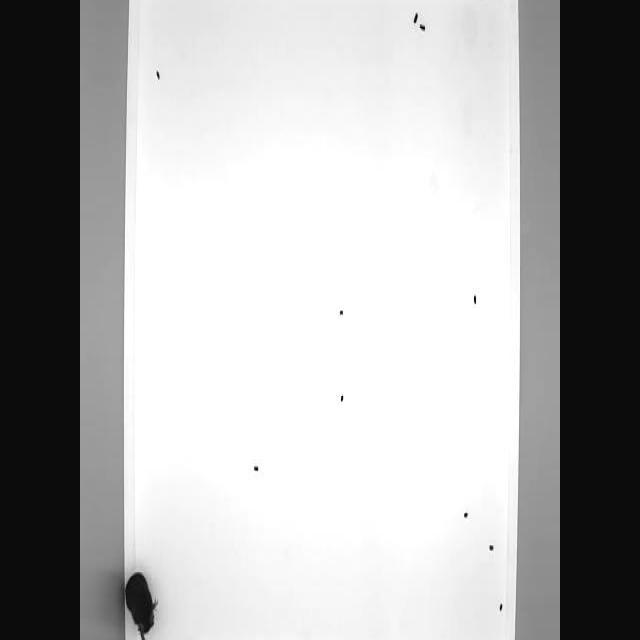rat: (120, 566, 177, 640)
